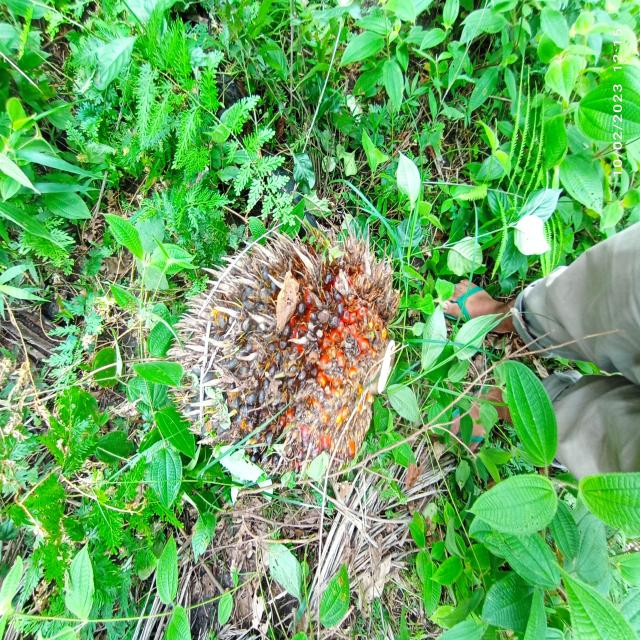fraksi 3: (162, 172, 416, 530)
